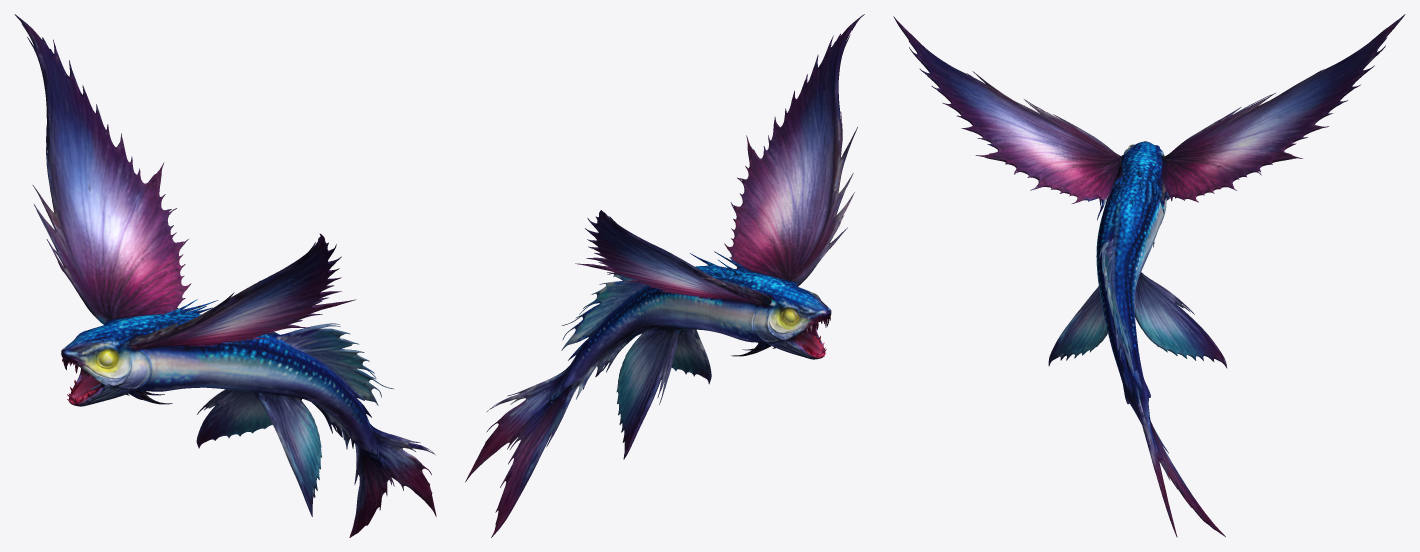
Rendered from ikan indosiar.glb.
3 renders of one model, left to right at view 1: azimuth 30°, elevation 25°; view 2: azimuth 150°, elevation 25°; view 3: azimuth 270°, elevation 25°, orthographic. The views are drawn at different scales.
Visible parts, largest first — view 1: material; view 2: material; view 3: material.
Part boxes in pixels (<box>): material: <box>14,14,436,537</box>; material: <box>465,14,864,537</box>; material: <box>893,14,1405,537</box>.
Bounding box in the file's own units: 0.6445 × 0.7878 × 0.855.
1 material, 1 textured.
